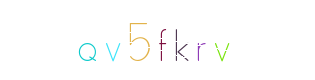5: (108, 0, 188, 80)
F: (117, 0, 197, 80)
K: (131, 0, 211, 80)
Q: (56, 0, 136, 80)
R: (149, 0, 229, 80)
V: (82, 0, 162, 80), (182, 0, 262, 80)
